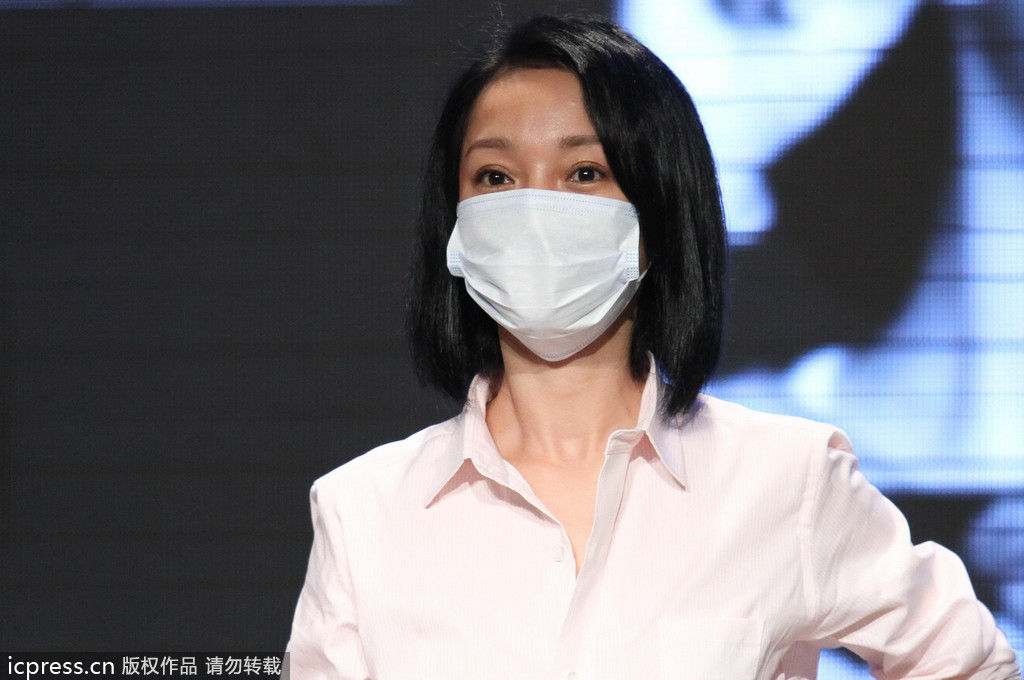mask: (454, 195, 642, 364)
